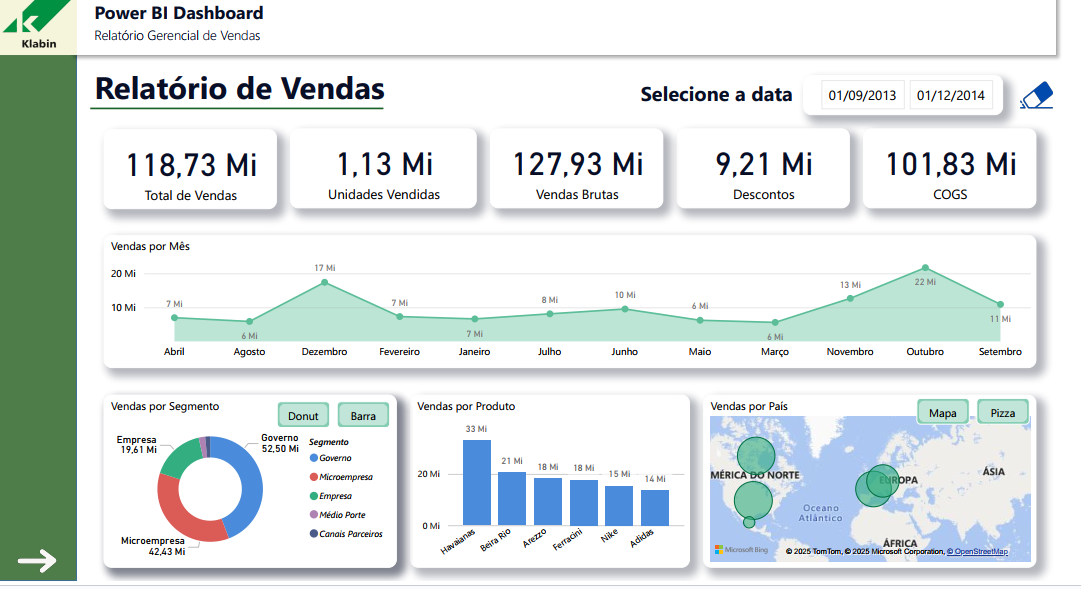

What the dashboard file says about the page in this screenshot:
{"tool":"powerbi","page":{"name":"Página 1","canvas":[1280,720],"ordinal":0},"visuals":[{"type":"shape","box":[0,8,96,80],"z":0,"group":"g6"},{"type":"textbox","box":[112,16,272,48],"z":0,"group":"g5"},{"type":"textbox","box":[768,112,240,48],"z":0},{"type":"actionButton","box":[1224,112,48,48],"z":0,"group":"g8"},{"type":"shape","title":"Linha","box":[112,128,352,48],"z":0,"group":"g1"},{"type":"card","fields":{"Values":["Sum(financials.Vendas)"]},"box":[127.8,177.3,208,96],"z":0,"group":"g2"},{"type":"clusteredBarChart","title":"Vendas por Segmento","fields":{"Y":["Sum(financials.Vendas)"],"Category":["financials.Segmento"]},"box":[128,496,352,208],"z":0,"group":"g4"},{"type":"map","fields":{"Category":["financials.País"],"Size":["Sum(financials.Vendas)"]},"box":[848,496,400,208],"z":0,"group":"g3"},{"type":"image","title":"botãoSeta","box":[16,672,64,48],"z":0,"group":"g7"},{"type":"image","title":"imagemLogo","box":[0,0,96,96],"z":1000,"group":"g6"},{"type":"shape","box":[0,8,96,712],"z":1000},{"type":"textbox","box":[112,48,256,48],"z":1000,"group":"g5"},{"type":"textbox","box":[112,96,368,64],"z":1000,"group":"g1"},{"type":"image","title":"botãoBorracha","box":[1224,112,48,48],"z":1000,"group":"g8"},{"type":"card","fields":{"Values":["Sum(financials.Unidades Vendidas)"]},"box":[352,176,224,96],"z":1000,"group":"g2"},{"type":"donutChart","title":"Vendas por Segmento","fields":{"Y":["Sum(financials.Vendas)"],"Category":["financials.Segmento"]},"box":[128,496,352,208],"z":1000,"group":"g4"},{"type":"actionButton","title":"Seta","box":[16,672,64,48],"z":1000,"group":"g7"},{"type":"slicer","fields":{"Values":["financials.Data"]},"box":[968,112,240,48],"z":2000},{"type":"card","fields":{"Values":["Sum(financials.Descontos)"]},"box":[816,176,208,96],"z":2000,"group":"g2"},{"type":"actionButton","title":"botãoMapa","box":[1104.5,499.8,64,32],"z":2000,"group":"g3"},{"type":"actionButton","title":"botãoBarra","box":[408,504,64,32],"z":2000,"group":"g4"},{"type":"card","fields":{"Values":["Sum(financials.Vendas Brutas)"]},"box":[592,176,208,96],"z":3000,"group":"g2"},{"type":"lineChart","fields":{"Y":["Sum(financials.Vendas)"],"Category":["financials.Mês","financials.Data.Variation.Date Hierarchy.Month"]},"box":[128,304,1120,160],"z":3000},{"type":"actionButton","title":"botãoPizza","box":[1176.5,499.8,64,32],"z":3000,"group":"g3"},{"type":"actionButton","title":"botãoDonut","box":[336,504,64,32],"z":3000,"group":"g4"},{"type":"shape","box":[80,0,1200,96],"z":4000},{"type":"card","fields":{"Values":["Sum(financials.COGS)"]},"box":[1040,176,208,96],"z":4000,"group":"g2"},{"type":"lineStackedColumnComboChart","fields":{"Category":["financials.Produto"],"Y":["Sum(financials.Vendas)"]},"box":[496,496,336,208],"z":5000},{"type":"group","id":"g1","title":"Título","box":[112,96,368,80],"z":6000},{"type":"group","id":"g2","title":"Cartões","box":[127.8,176,1120.2,97.3],"z":7000},{"type":"group","id":"g3","title":"VendasXPaís","box":[848,496,400,208],"z":8000},{"type":"group","id":"g4","title":"VendasXSegmento","box":[128,496,352,208],"z":9000},{"type":"group","id":"g5","title":"TituloXSubtitulo","box":[112,16,272,80],"z":10000},{"type":"group","id":"g6","title":"Logo","box":[0,0,96,96],"z":11000},{"type":"group","id":"g7","title":"PróximaPágina","box":[16,672,64,48],"z":12000},{"type":"group","id":"g8","title":"Borracha","box":[1224,112,48,48],"z":13000}]}

Visuals, with their boxes on the page's 1280x720 design canvas (x1, y1, x2, y2). These are canvas units, not pixel positions in the 1081x589 screenshot, which may show the page scaled, cropped or inside an application window:
shape: left=0, top=8, right=96, bottom=88
textbox: left=112, top=16, right=384, bottom=64
textbox: left=768, top=112, right=1008, bottom=160
actionButton: left=1224, top=112, right=1272, bottom=160
"Linha" shape: left=112, top=128, right=464, bottom=176
card - Sum(financials.Vendas): left=128, top=177, right=336, bottom=273
"Vendas por Segmento" clusteredBarChart: left=128, top=496, right=480, bottom=704
map - financials.País x Sum(financials.Vendas): left=848, top=496, right=1248, bottom=704
"botãoSeta" image: left=16, top=672, right=80, bottom=720
"imagemLogo" image: left=0, top=0, right=96, bottom=96
shape: left=0, top=8, right=96, bottom=720
textbox: left=112, top=48, right=368, bottom=96
textbox: left=112, top=96, right=480, bottom=160
"botãoBorracha" image: left=1224, top=112, right=1272, bottom=160
card - Sum(financials.Unidades Vendidas): left=352, top=176, right=576, bottom=272
"Vendas por Segmento" donutChart: left=128, top=496, right=480, bottom=704
"Seta" actionButton: left=16, top=672, right=80, bottom=720
slicer - financials.Data: left=968, top=112, right=1208, bottom=160
card - Sum(financials.Descontos): left=816, top=176, right=1024, bottom=272
"botãoMapa" actionButton: left=1104, top=500, right=1168, bottom=532
"botãoBarra" actionButton: left=408, top=504, right=472, bottom=536
card - Sum(financials.Vendas Brutas): left=592, top=176, right=800, bottom=272
lineChart - Sum(financials.Vendas) x financials.Mês: left=128, top=304, right=1248, bottom=464
"botãoPizza" actionButton: left=1176, top=500, right=1240, bottom=532
"botãoDonut" actionButton: left=336, top=504, right=400, bottom=536
shape: left=80, top=0, right=1280, bottom=96
card - Sum(financials.COGS): left=1040, top=176, right=1248, bottom=272
lineStackedColumnComboChart - financials.Produto x Sum(financials.Vendas): left=496, top=496, right=832, bottom=704
"Título" group: left=112, top=96, right=480, bottom=176
"Cartões" group: left=128, top=176, right=1248, bottom=273
"VendasXPaís" group: left=848, top=496, right=1248, bottom=704
"VendasXSegmento" group: left=128, top=496, right=480, bottom=704
"TituloXSubtitulo" group: left=112, top=16, right=384, bottom=96
"Logo" group: left=0, top=0, right=96, bottom=96
"PróximaPágina" group: left=16, top=672, right=80, bottom=720
"Borracha" group: left=1224, top=112, right=1272, bottom=160
